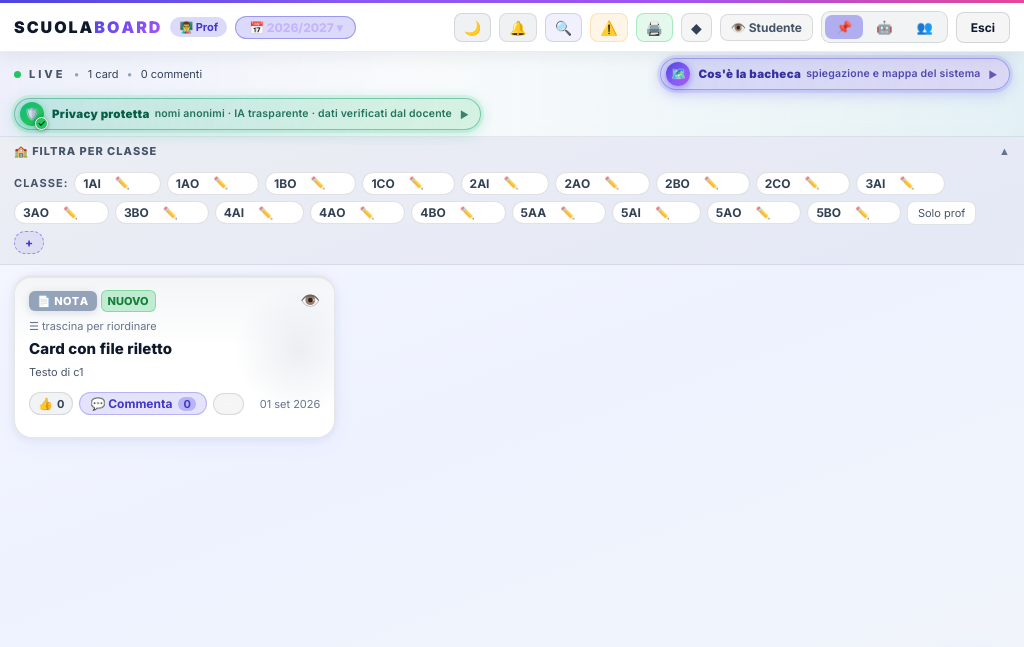
Allegati in sottocollezione › una rilettura fallita NON cancella il contenuto già mostrato
The width and height of the screenshot is (1024, 647).
Click the text "Card con file riletto". click: coordinates (101, 348)
box: [29,338,172,358]
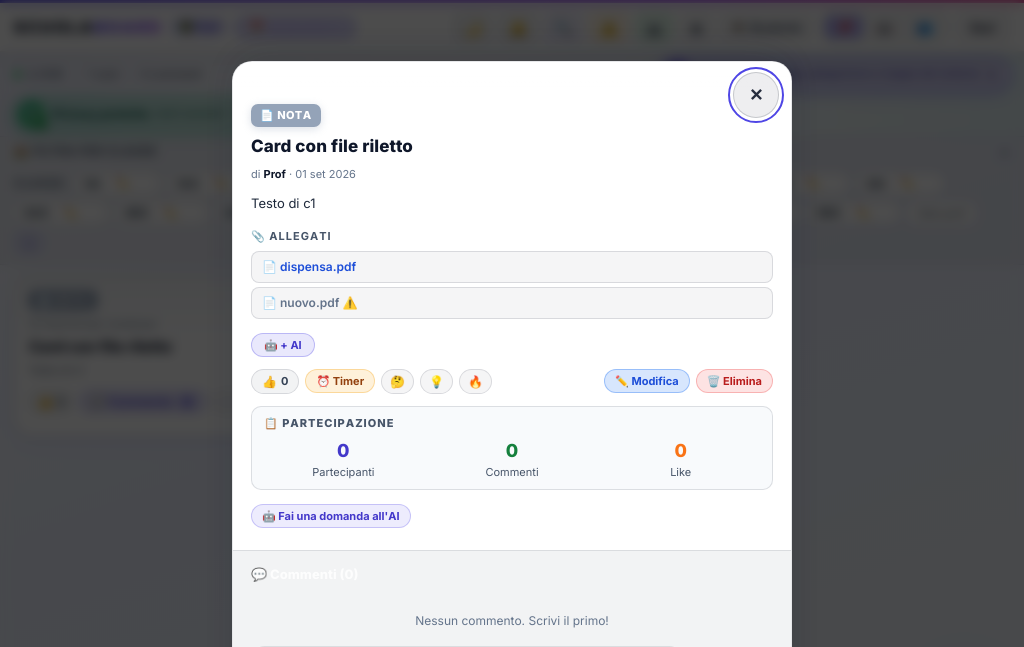
expect the text with test id "allegato-non-disponibile" shows "nuovo.pdf": met, box [280,295,339,310]
